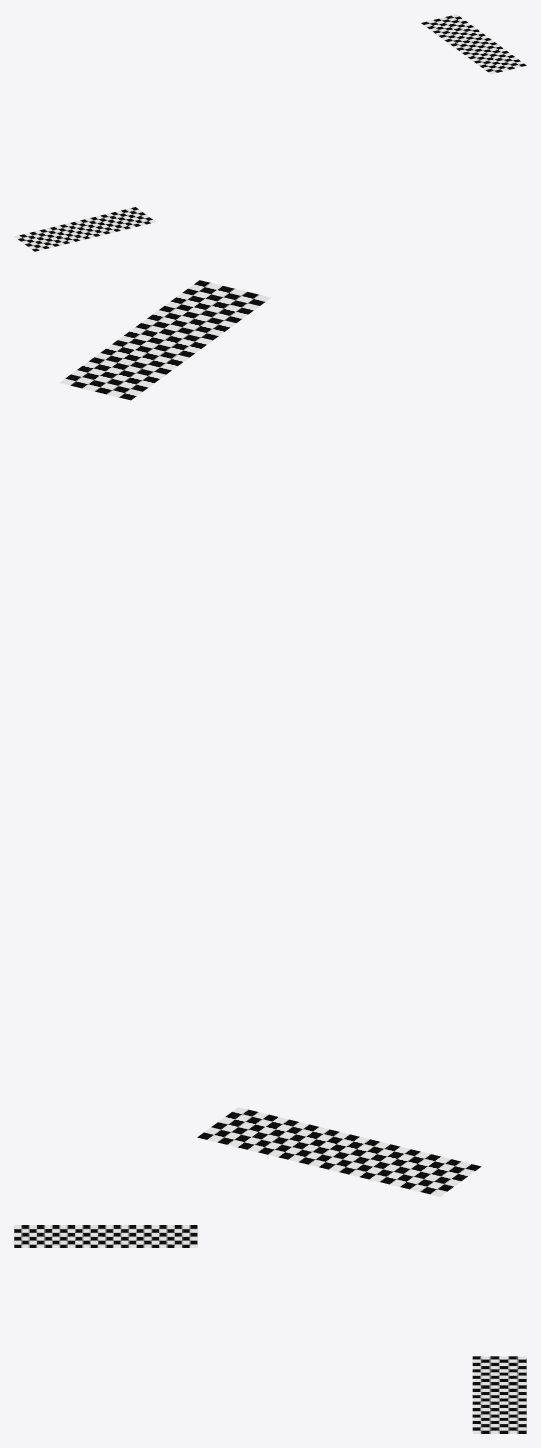
Rendered from checker.glb.
3 renders of one model, top to bottom at view 1: azimuth 30°, elevation 25°; view 2: azimuth 150°, elevation 25°; view 3: azimuth 270°, elevation 25°, orthographic. The views are drawn at different scales.
Visible parts, largest first — view 1: Plane, Plane.002; view 2: Plane, Plane.002; view 3: Plane, Plane.002.
Part boxes in pixels (x1=…): Plane: x1=14, y1=207, x2=155, y2=251; Plane.002: x1=421, y1=14, x2=526, y2=74; Plane: x1=197, y1=1107, x2=481, y2=1196; Plane.002: x1=59, y1=280, x2=270, y2=400; Plane: x1=472, y1=1356, x2=526, y2=1433; Plane.002: x1=14, y1=1225, x2=197, y2=1247.
Bounding box in the file's own units: 12.97 × 9.29 × 13.93.
1 material, 1 textured.
